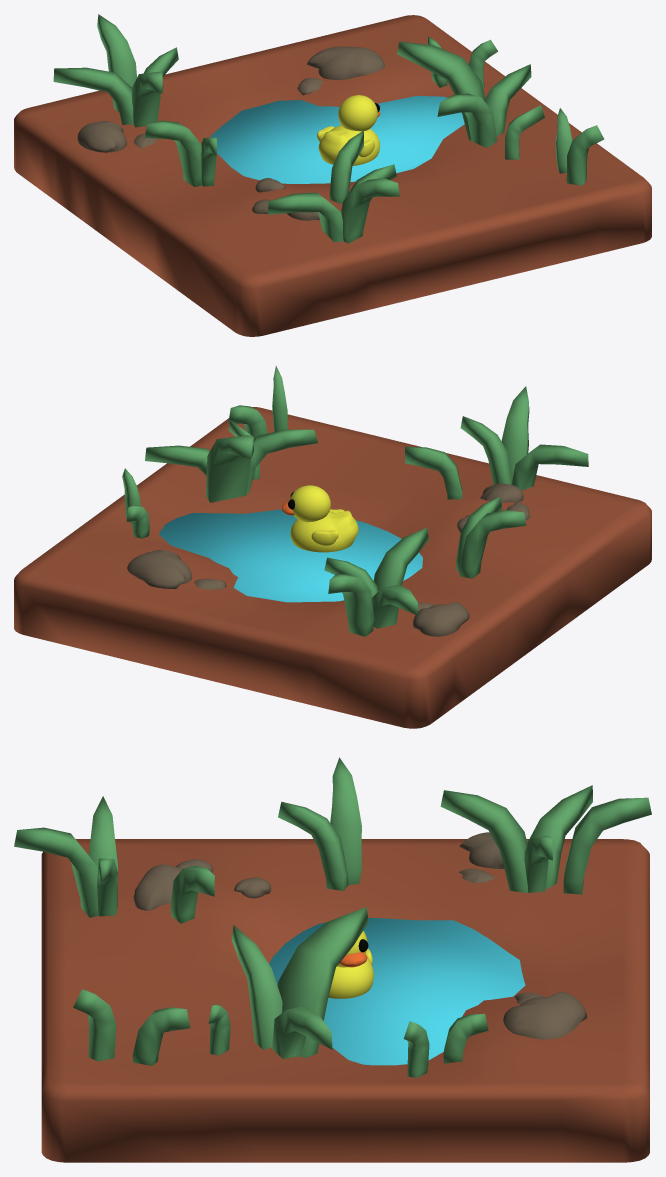
The model's file is ParkTile.fbx.
3 renders of one model, top to bottom at view 1: azimuth 30°, elevation 25°; view 2: azimuth 150°, elevation 25°; view 3: azimuth 270°, elevation 25°, orthographic. The views are drawn at different scales.
Parts seen in each view (by area): view 1: ground, water, grass3, grass14, grass5, duck2, grass13, stone5, grass8, stone6, grass4, grass18 (+2 smaller); view 2: ground, water, grass14, grass3, grass5, duck2, grass13, stone5, grass8, stone6, grass4, grass11 (+1 smaller); view 3: ground, water, grass3, grass14, grass5, grass13, grass8, stone5, grass11, stone4, duck2, grass4 (+2 smaller).
Part boxes in pixels (x1=…): ground: x1=14, y1=15, x2=651, y2=336; water: x1=210, y1=96, x2=464, y2=183; grass3: x1=397, y1=41, x2=531, y2=147; grass14: x1=53, y1=14, x2=178, y2=127; grass5: x1=268, y1=164, x2=399, y2=243; duck2: x1=317, y1=95, x2=380, y2=165; grass13: x1=144, y1=120, x2=216, y2=186; stone5: x1=297, y1=46, x2=384, y2=95; grass8: x1=555, y1=108, x2=604, y2=185; stone6: x1=77, y1=121, x2=157, y2=152; grass4: x1=329, y1=130, x2=363, y2=203; grass18: x1=505, y1=105, x2=544, y2=159; ground: x1=14, y1=407, x2=651, y2=728; water: x1=159, y1=509, x2=422, y2=602; grass14: x1=324, y1=527, x2=428, y2=636; grass3: x1=145, y1=429, x2=317, y2=502; grass5: x1=460, y1=386, x2=588, y2=490; duck2: x1=282, y1=485, x2=358, y2=552; grass13: x1=456, y1=497, x2=526, y2=578; stone5: x1=127, y1=550, x2=226, y2=589; grass8: x1=228, y1=365, x2=287, y2=439; stone6: x1=413, y1=602, x2=469, y2=636; grass4: x1=405, y1=446, x2=462, y2=499; grass11: x1=122, y1=468, x2=149, y2=538; ground: x1=41, y1=839, x2=649, y2=1162; water: x1=269, y1=918, x2=525, y2=1065; grass3: x1=231, y1=907, x2=368, y2=1058; grass14: x1=440, y1=785, x2=651, y2=894; grass5: x1=14, y1=796, x2=117, y2=917; grass13: x1=278, y1=757, x2=361, y2=890; grass8: x1=73, y1=989, x2=190, y2=1065; stone5: x1=503, y1=991, x2=587, y2=1039; grass11: x1=403, y1=1013, x2=488, y2=1077; stone4: x1=133, y1=859, x2=271, y2=910; duck2: x1=328, y1=930, x2=373, y2=998; grass4: x1=170, y1=865, x2=214, y2=923.
Bounding box in the file's own units: 1 × 0.3152 × 1.05.
